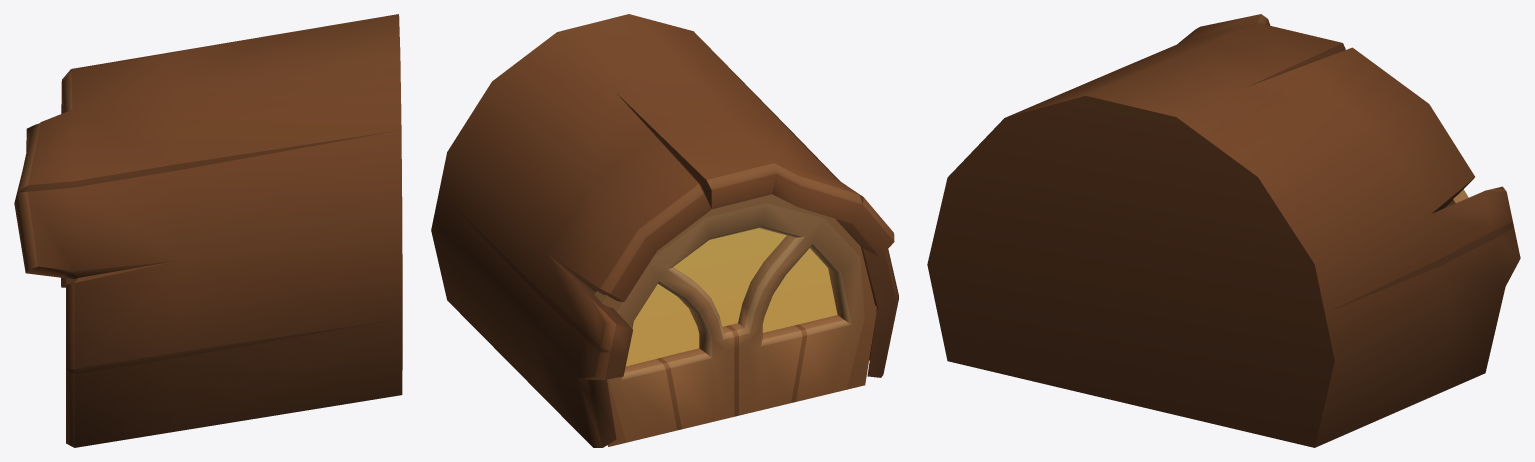
The model's file is window2.fbx.
3 views of the same model, side by side, from view 1: azimuth 30°, elevation 25°; view 2: azimuth 150°, elevation 25°; view 3: azimuth 270°, elevation 25° (orthographic). The views are drawn at different scales.
Visible parts, largest first — view 1: window2; view 2: window2; view 3: window2.
Boxes of the visible parts, x1=… form: window2: x1=14, y1=14, x2=402, y2=447; window2: x1=431, y1=14, x2=898, y2=447; window2: x1=927, y1=14, x2=1520, y2=447.
Bounding box in the file's own units: 54.98 × 38.96 × 58.27.
